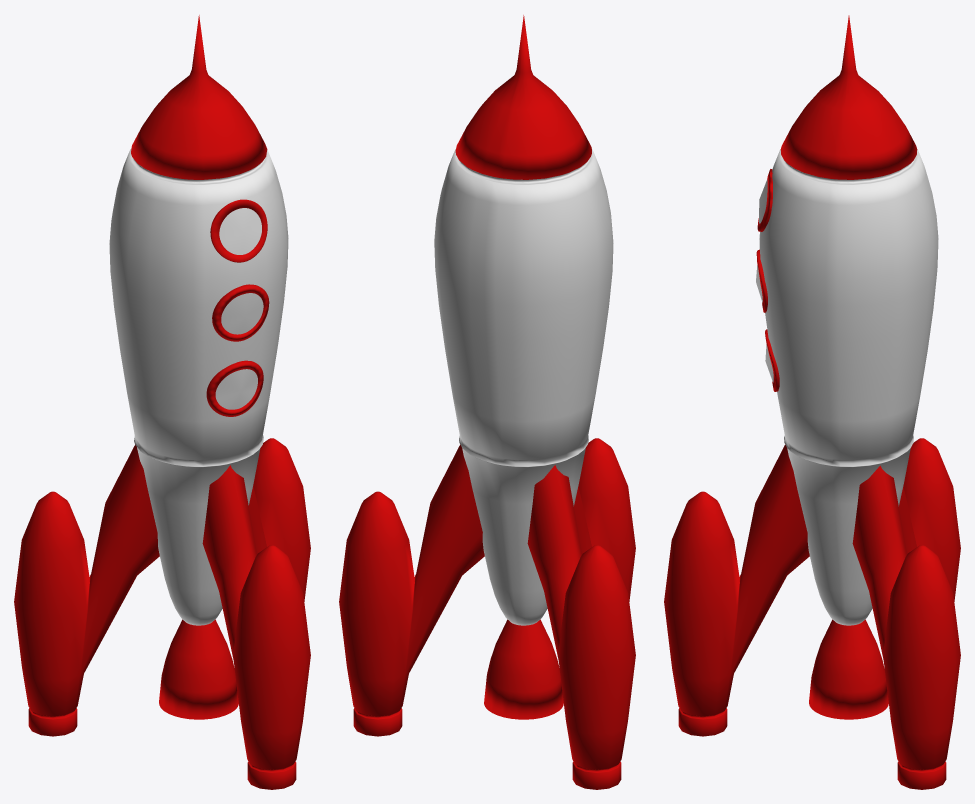
Rendered from RetroRocket.fbx.
3 views of the same model, side by side, from view 1: azimuth 30°, elevation 25°; view 2: azimuth 150°, elevation 25°; view 3: azimuth 270°, elevation 25° (orthographic).
Parts seen in each view (by area): view 1: rocket_body, small_engine.2, small_engine, Tip, main_engine, small_engine.3, window glass, windows; view 2: rocket_body, small_engine.3, small_engine.2, Tip, main_engine, small_engine; view 3: rocket_body, small_engine, small_engine.3, Tip, main_engine, small_engine.2, windows, window glass.
Boxes of the visible parts, box(x1,y1,x2,y2) form: rocket_body: box(109, 148, 288, 625); small_engine.2: box(14, 445, 159, 736); small_engine: box(202, 465, 310, 789); Tip: box(131, 15, 267, 179); main_engine: box(159, 619, 238, 719); small_engine.3: box(248, 438, 310, 601); window glass: box(215, 208, 263, 409); windows: box(206, 199, 269, 416); rocket_body: box(434, 149, 613, 625); small_engine.3: box(339, 444, 484, 736); small_engine.2: box(527, 465, 635, 789); Tip: box(455, 15, 591, 179); main_engine: box(484, 619, 563, 719); small_engine: box(574, 438, 635, 601); rocket_body: box(759, 149, 938, 625); small_engine: box(664, 444, 809, 736); small_engine.3: box(852, 465, 960, 789); Tip: box(780, 15, 917, 179); main_engine: box(809, 619, 888, 719); small_engine.2: box(899, 438, 960, 601); windows: box(756, 169, 779, 391); window glass: box(756, 179, 773, 382).
Size of the model in its own units: 202 by 480 by 181.
